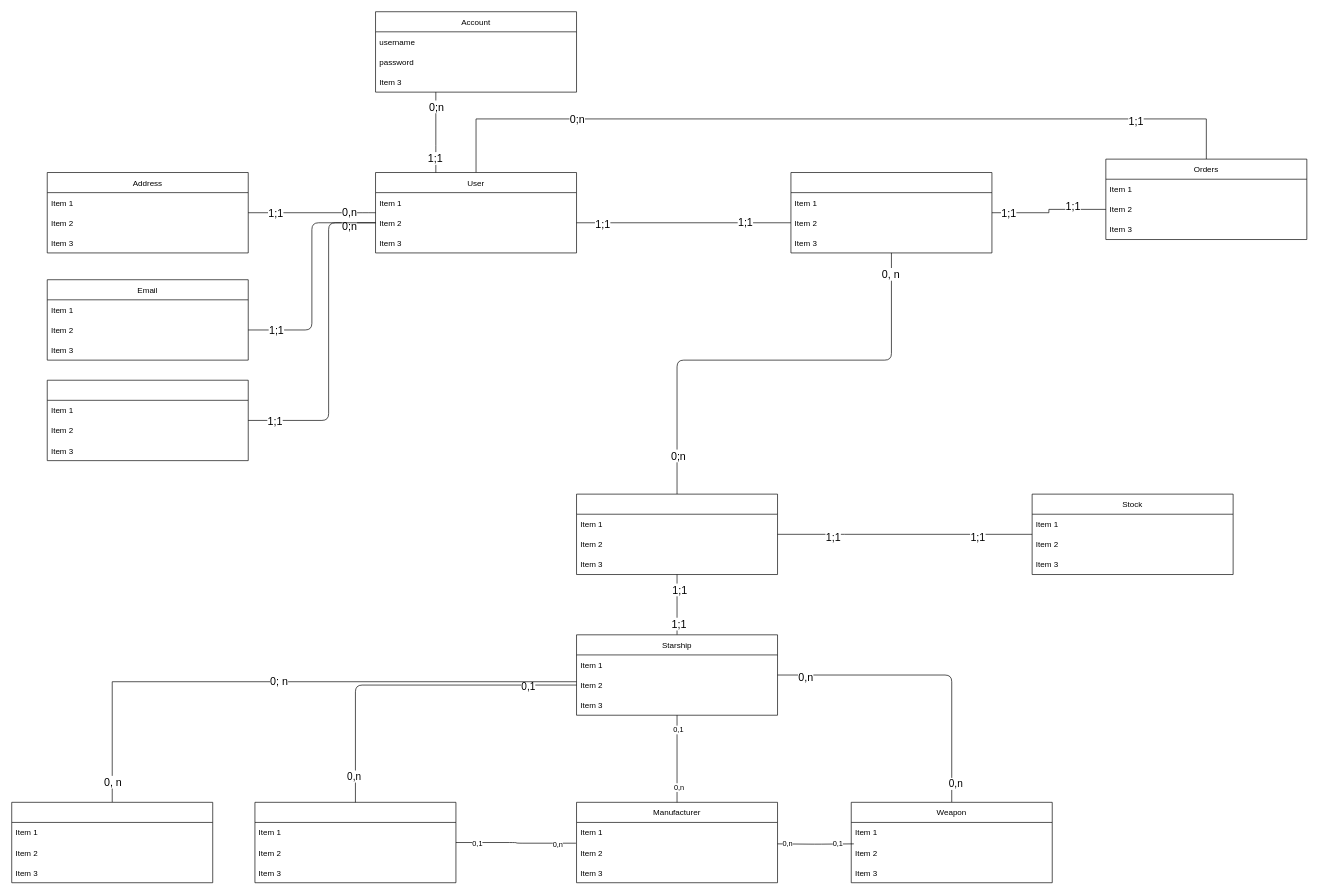
Some shapes in this 1319 by 894 pixel diagram are drawn without their labels. Here are the shapes that lost their labels. From the top down, the box of each, then its label:
(790, 172, 992, 253): Cart
(47, 380, 248, 461): Téléphone
(576, 493, 778, 575): Article
(11, 802, 213, 883): Engines
(254, 802, 456, 883): Hyperdrive System
